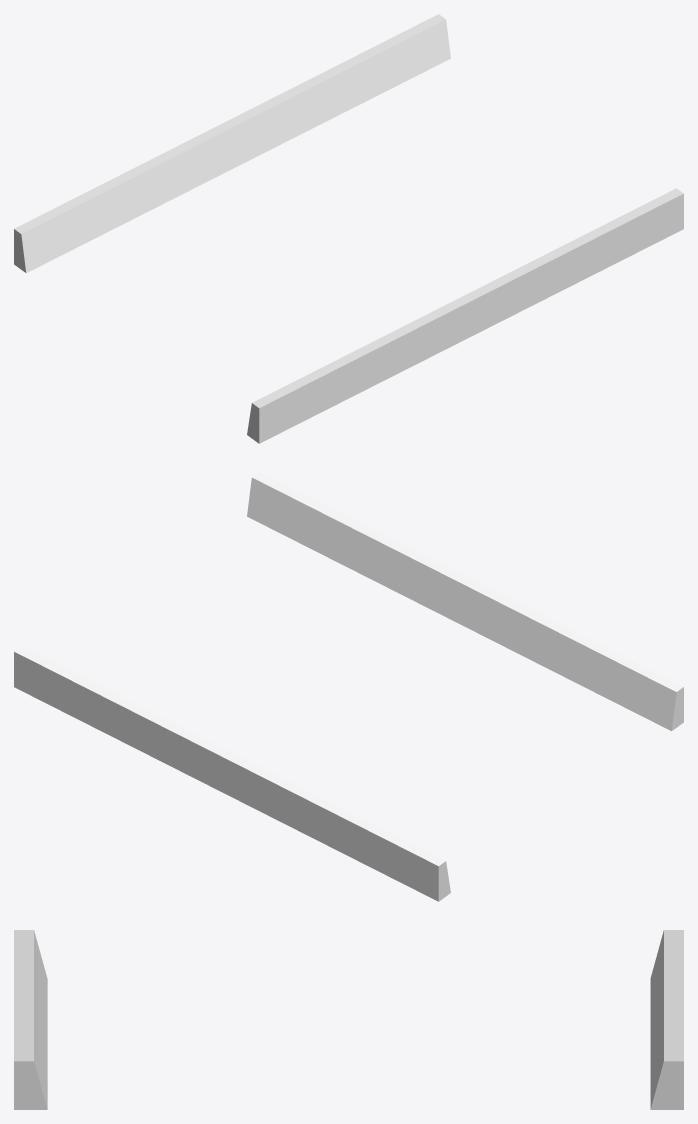
File: road-slant-barrier.glb
3 views of the same model, one above another, from view 1: azimuth 30°, elevation 25°; view 2: azimuth 150°, elevation 25°; view 3: azimuth 270°, elevation 25° (orthographic). The views are drawn at different scales.
Visible parts, largest first — view 1: road-slant-barrier; view 2: road-slant-barrier; view 3: road-slant-barrier.
Part boxes in pixels (x1,y1,x2,y2): road-slant-barrier: (14,14,683,443); road-slant-barrier: (14,472,683,901); road-slant-barrier: (14,930,683,1109).
Size of the model in its own units: 1 by 0.33 by 1.
1 material, 1 textured.
